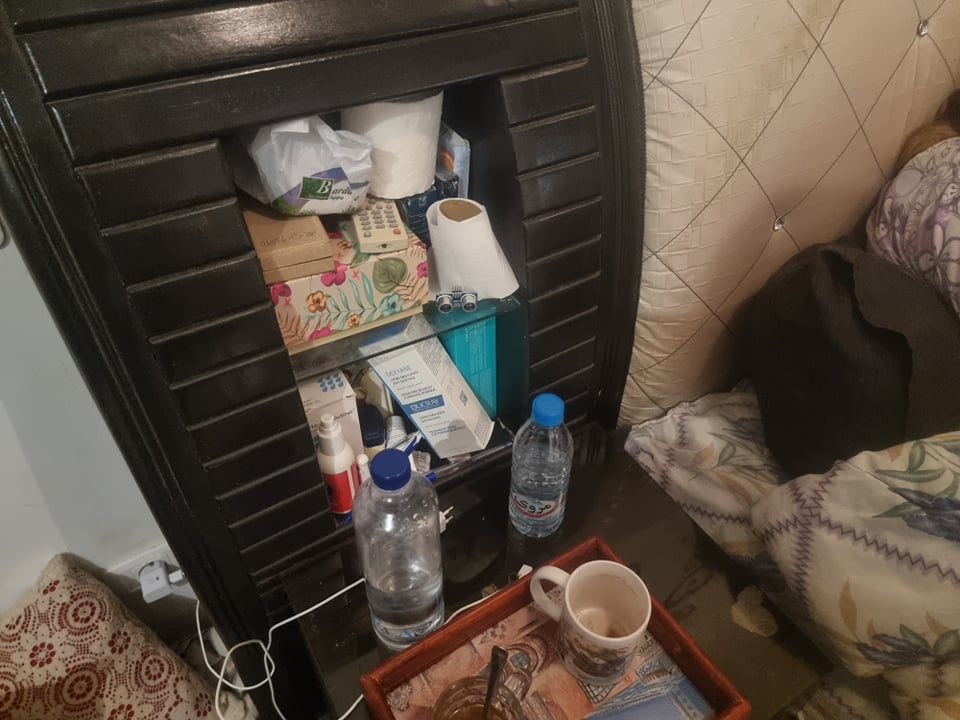SENSOR: (434, 288, 479, 316)
